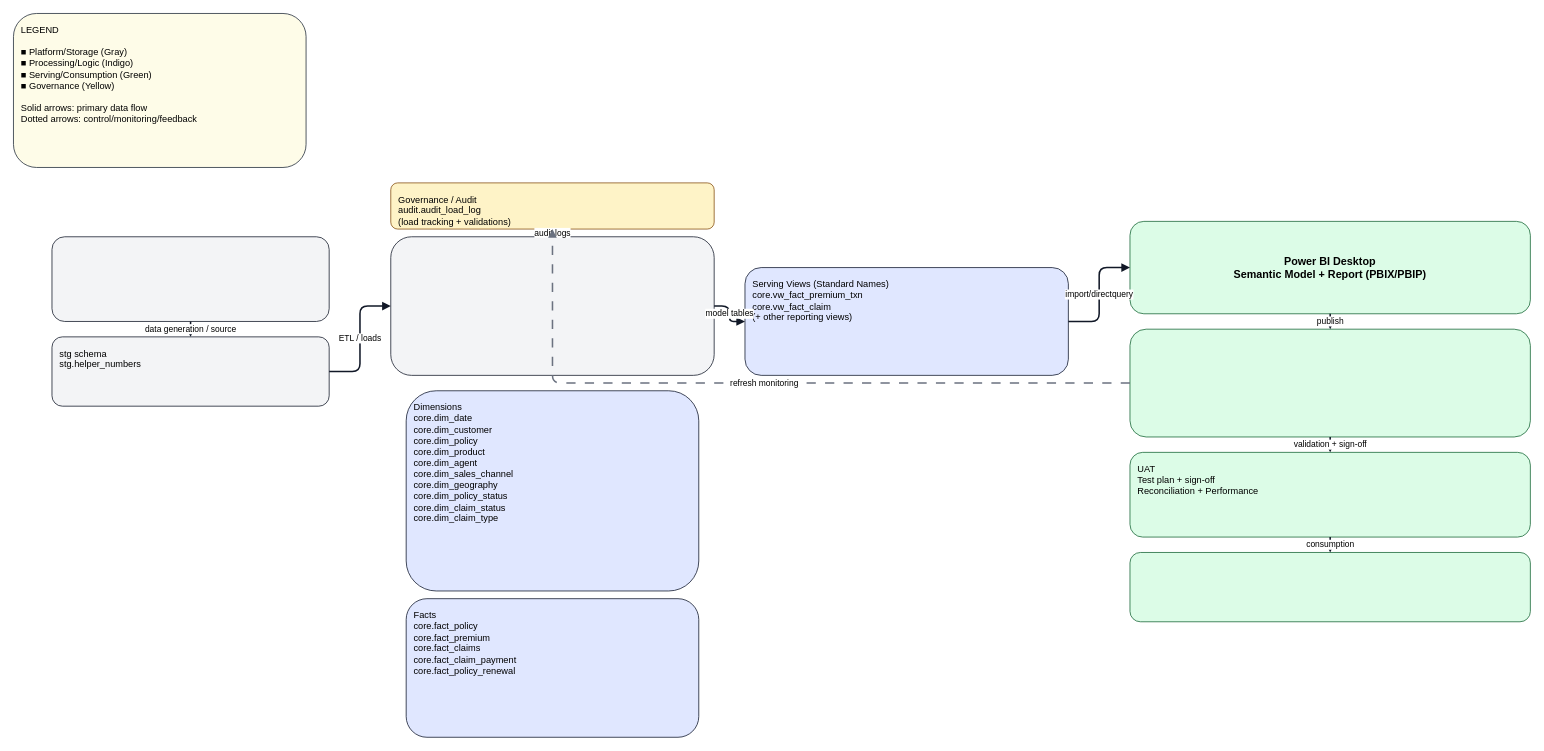
Some shapes in this 1544 by 751 pixel diagram are drawn without their labels. Here are the shapes that lost their labels. From the top down, the box of each, then its label:
(51, 236, 329, 321): SQL Server Database: insurance_DB
(390, 236, 714, 375): core schema (DW) Dimensions + Facts
(1129, 328, 1530, 437): Power BI Service Workspaces: Dev → UAT → Prod Refresh + RLS + Monitoring
(1129, 552, 1530, 622): Consumers Leadership / Business Users
